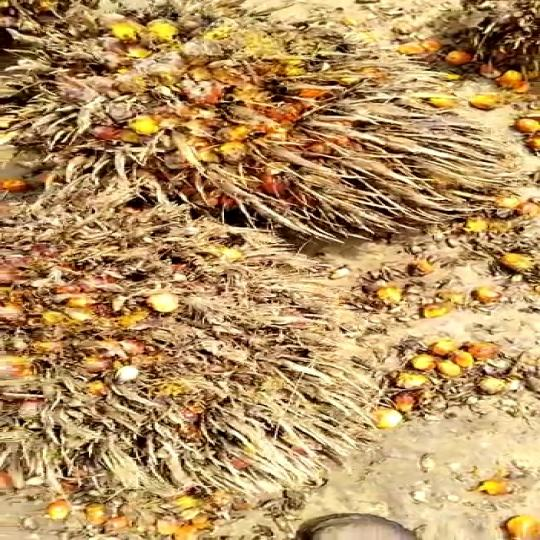terlalu masak: (0, 216, 344, 504), (0, 35, 451, 237)
